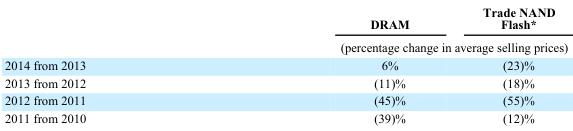table: (4, 4, 567, 124)
table column: (212, 4, 445, 124), (4, 4, 212, 124), (445, 4, 567, 124)
table column header: (4, 4, 567, 55)
table row: (4, 4, 567, 35), (4, 35, 567, 55), (4, 55, 567, 73), (4, 73, 567, 91), (4, 91, 567, 108), (4, 108, 567, 124)
table spanning cell: (212, 35, 567, 55)
